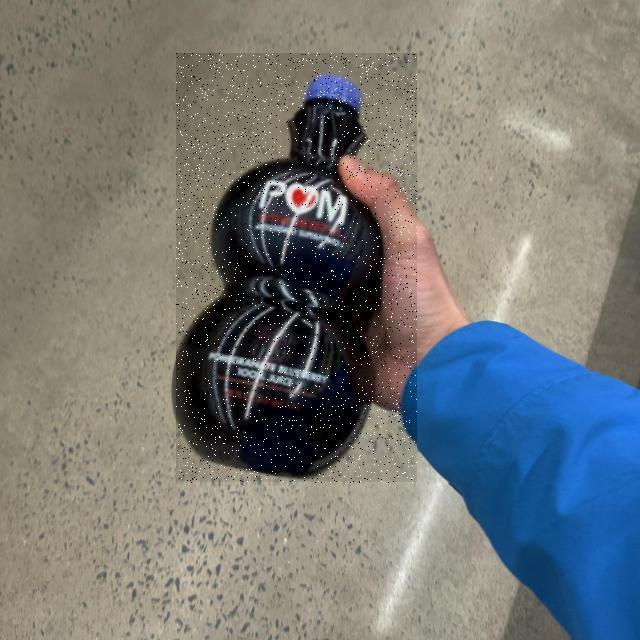Juice: (176, 54, 417, 484)
